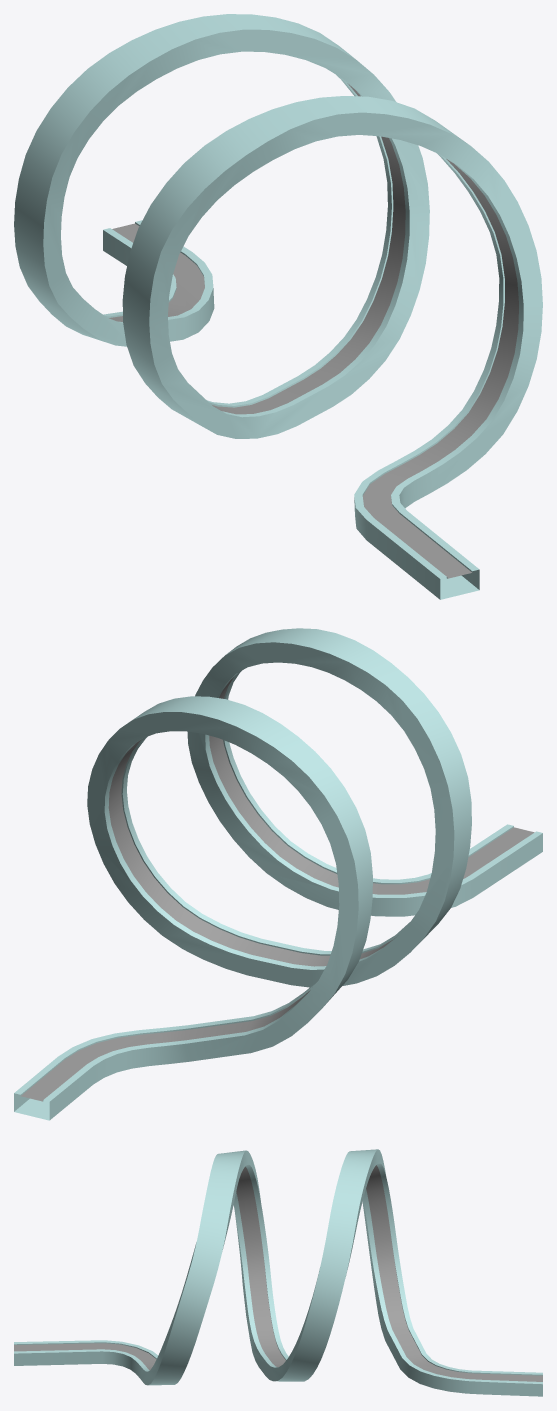
File: 2loop.fbx
3 views of the same model, one above another, from view 1: azimuth 30°, elevation 25°; view 2: azimuth 150°, elevation 25°; view 3: azimuth 270°, elevation 25° (orthographic). The views are drawn at different scales.
Visible parts, largest first — view 1: 2loop; view 2: 2loop; view 3: 2loop.
Boxes of the visible parts, box(x1,y1,x2,y2) form: 2loop: box(14, 14, 542, 599); 2loop: box(14, 628, 542, 1120); 2loop: box(14, 1149, 542, 1396).
Bounding box in the file's own units: 1781 × 1733 × 3951.
